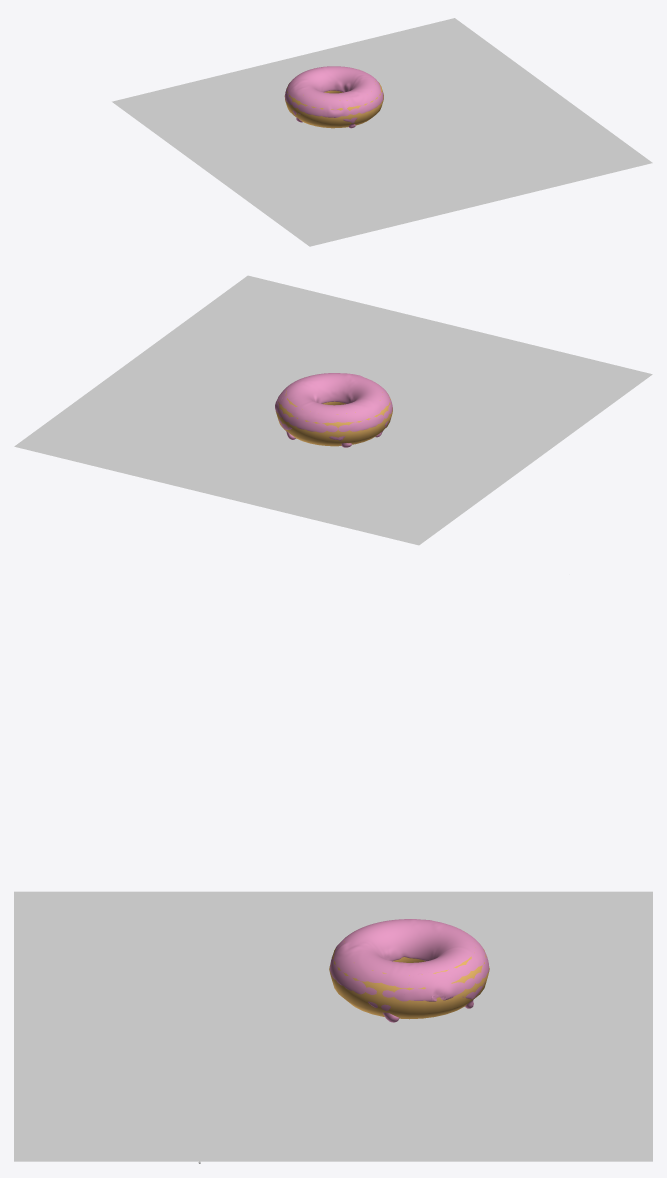
Rendered from Donut.glb.
3 renders of one model, top to bottom at view 1: azimuth 30°, elevation 25°; view 2: azimuth 150°, elevation 25°; view 3: azimuth 270°, elevation 25°, orthographic. The views are drawn at different scales.
Parts seen in each view (by area): view 1: Plane, Icing, Donut; view 2: Plane, Icing, Donut; view 3: Plane, Icing, Donut.
Part boxes in pixels (box(x1,y1,x2,y2)): Plane: box(112, 18, 652, 246); Icing: box(285, 66, 383, 128); Donut: box(284, 81, 383, 128); Plane: box(14, 275, 652, 545); Icing: box(275, 373, 392, 447); Donut: box(275, 390, 392, 446); Plane: box(14, 891, 652, 1161); Icing: box(330, 919, 488, 1022); Donut: box(329, 931, 489, 1019).
Bounding box in the file's own units: 7.54 × 2.22 × 5.54.
